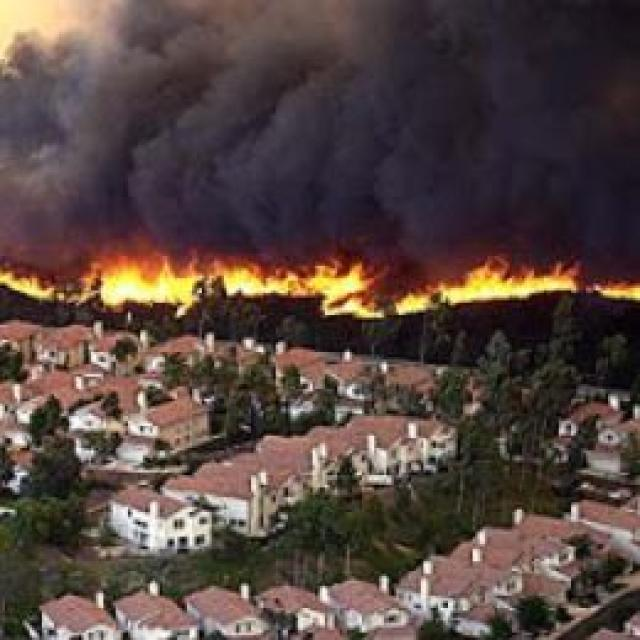Fire: (0, 258, 640, 321)
Smoke: (3, 3, 639, 235)
